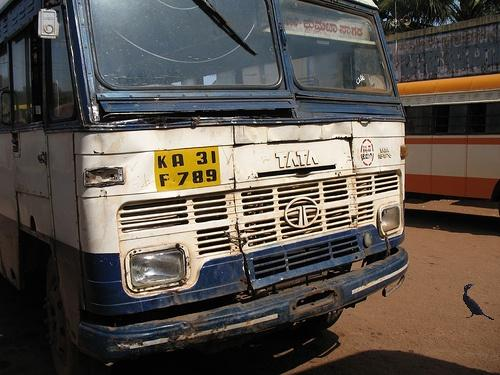tampered: (464, 285, 494, 320)
